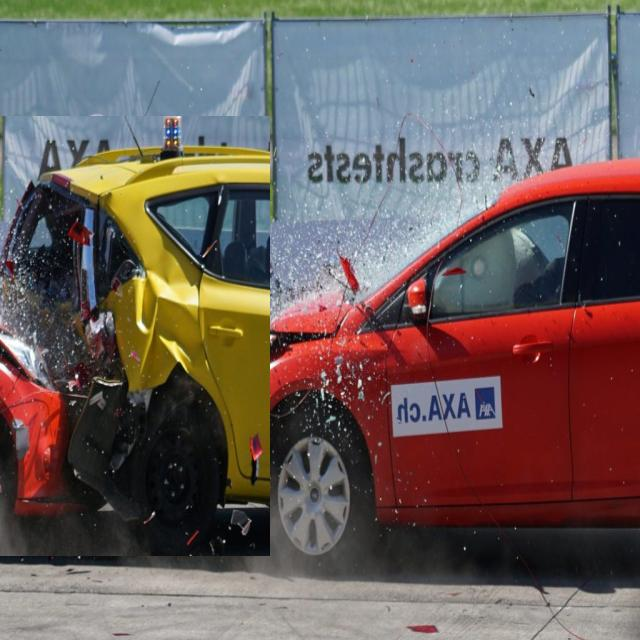accident: (175, 160, 640, 557), (0, 117, 270, 556)
